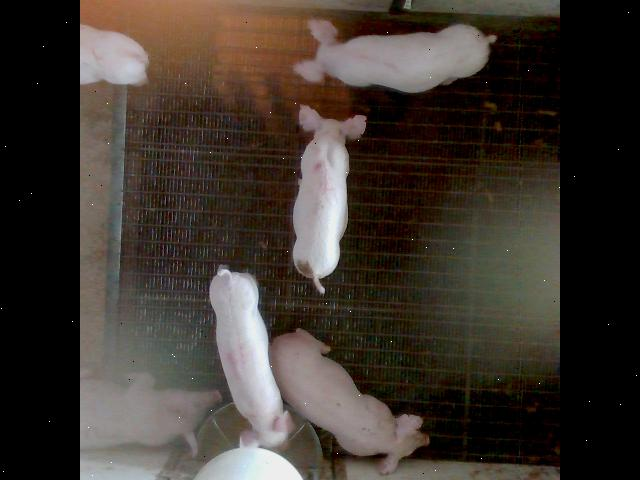pig-4: (210, 268, 289, 446)
pig-5: (293, 105, 364, 292)
